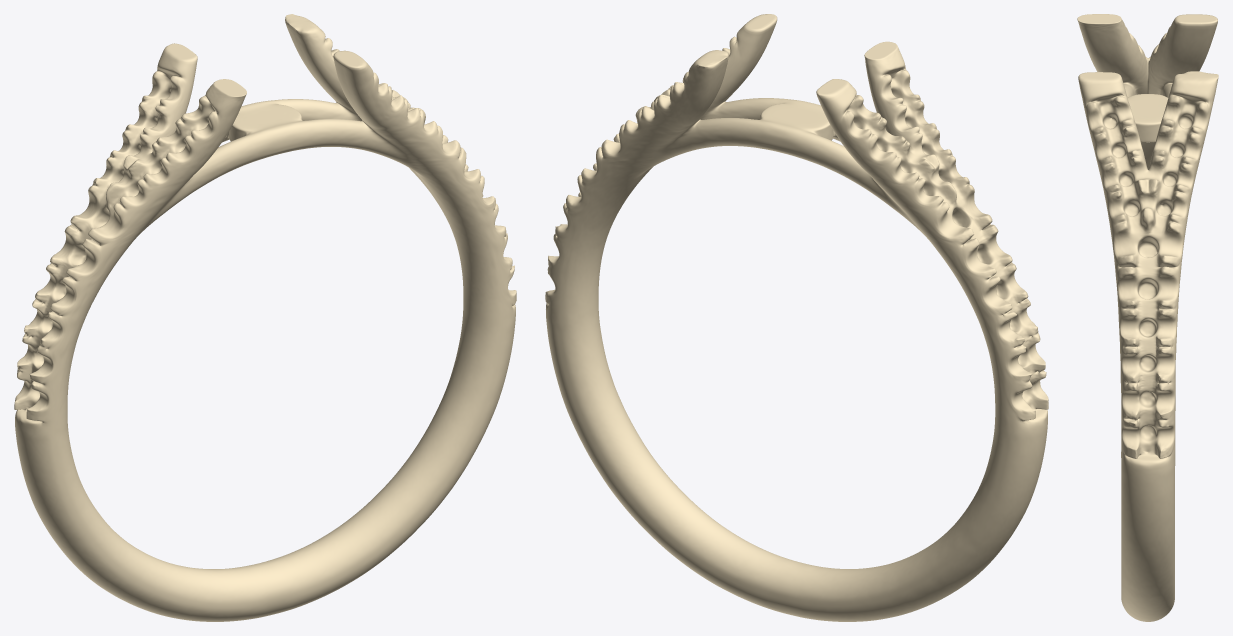
Rendered from Shank_Split_French Pave_A_Single Halo_Band.glb.
3 renders of one model, left to right at view 1: azimuth 30°, elevation 25°; view 2: azimuth 150°, elevation 25°; view 3: azimuth 270°, elevation 25°, orthographic.
Bounding box in the file's own units: 0.0211 × 0.0228 × 0.00532.
